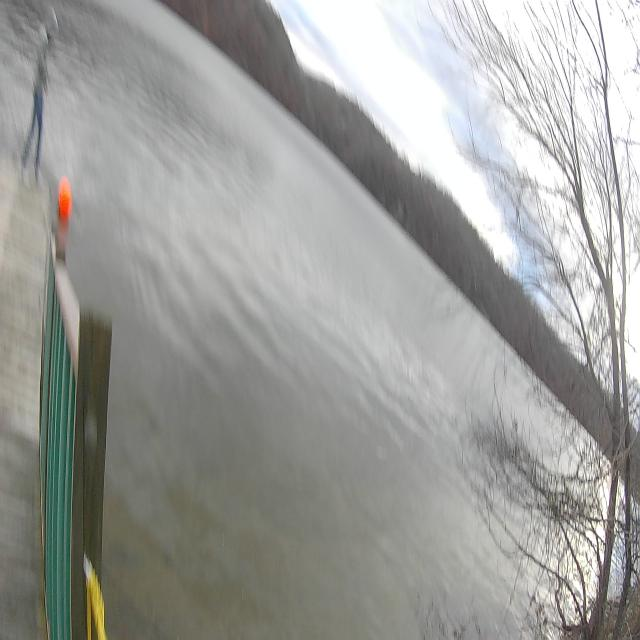Buoy: (56, 170, 76, 224)
